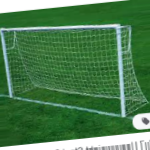goals: (1, 21, 150, 118)
